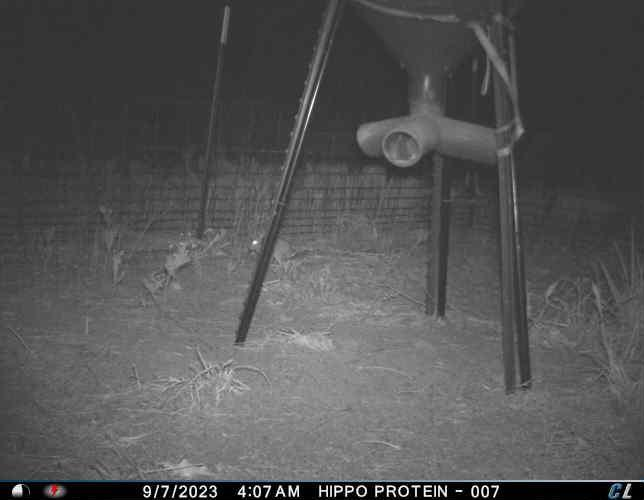Rabbit: (250, 227, 300, 265)
